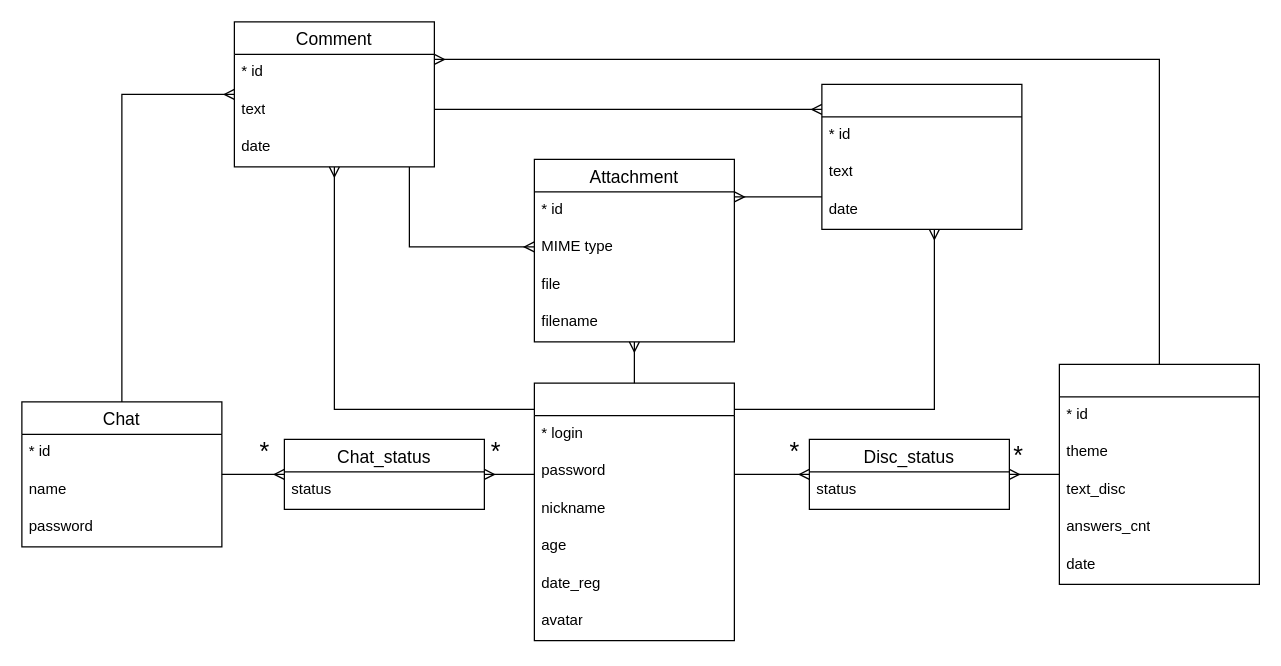
Image size: 1281x666. Some labels were removed from this diagram. Each missing label, with the box of its shape:
Comment_answer: (821, 83, 1022, 229)
Discussion: (1058, 363, 1259, 584)
User: (533, 382, 734, 641)
